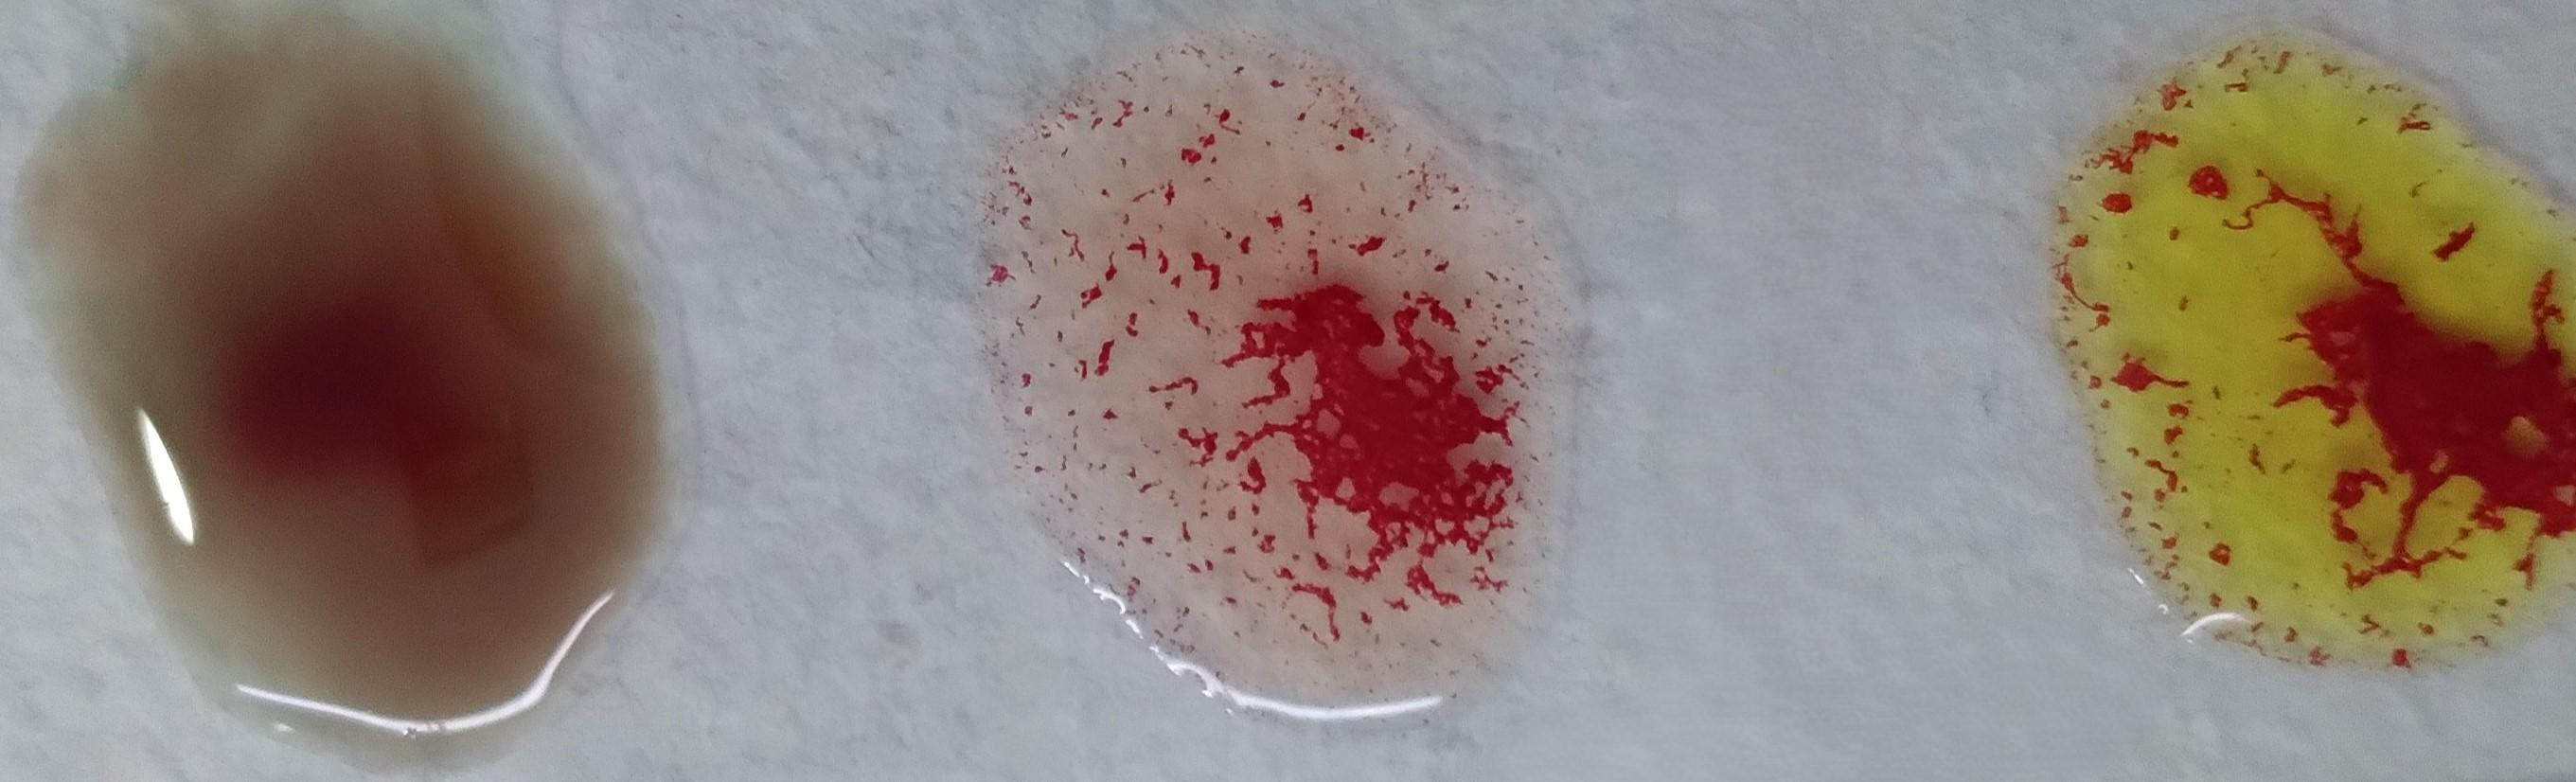B: (2088, 38, 2573, 664)
D: (1015, 26, 1557, 726)
